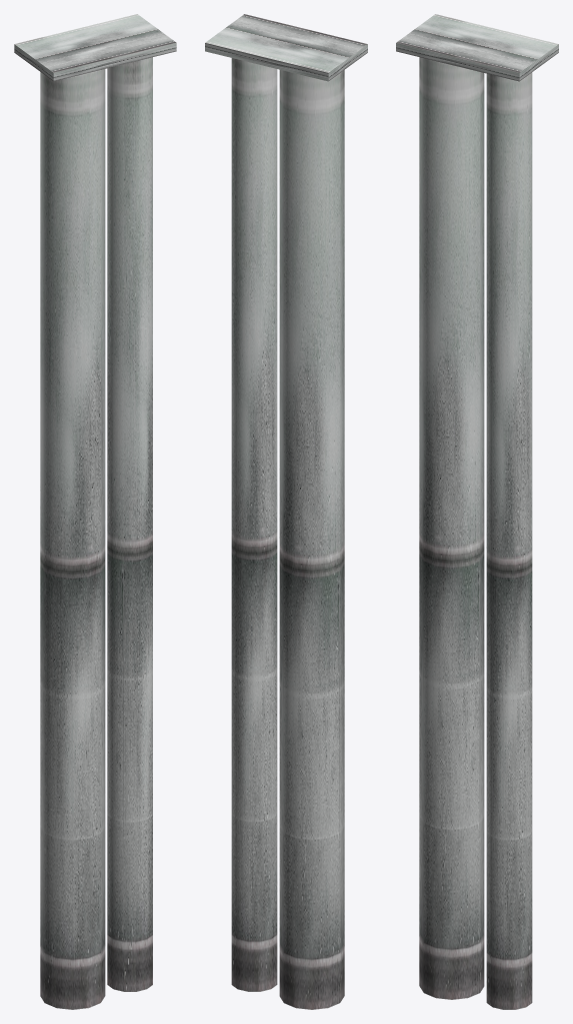
Rendered from bigPipe_3.obj.
3 renders of one model, left to right at view 1: azimuth 30°, elevation 25°; view 2: azimuth 150°, elevation 25°; view 3: azimuth 330°, elevation 25°, orthographic.
Parts seen in each view (by area): view 1: bigPipe_3; view 2: bigPipe_3; view 3: bigPipe_3.
Part boxes in pixels (x1,y1,x2,y2): bigPipe_3: [14, 14, 176, 1009]; bigPipe_3: [205, 14, 367, 1009]; bigPipe_3: [396, 14, 558, 1009].
Bounding box in the file's own units: 0.4699 × 3.45 × 0.2597.
Materials: 1 (1 with a texture image).
